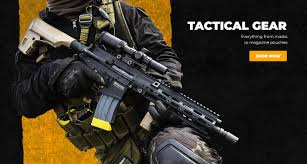gun: (17, 17, 240, 145)
